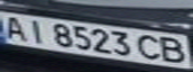2: (90, 26, 112, 56)
3: (112, 28, 136, 58)
5: (69, 24, 93, 52)
8: (48, 20, 75, 48)
A: (0, 12, 30, 42)
B: (157, 35, 190, 65)
C: (136, 33, 166, 62)
I: (21, 16, 51, 44)
